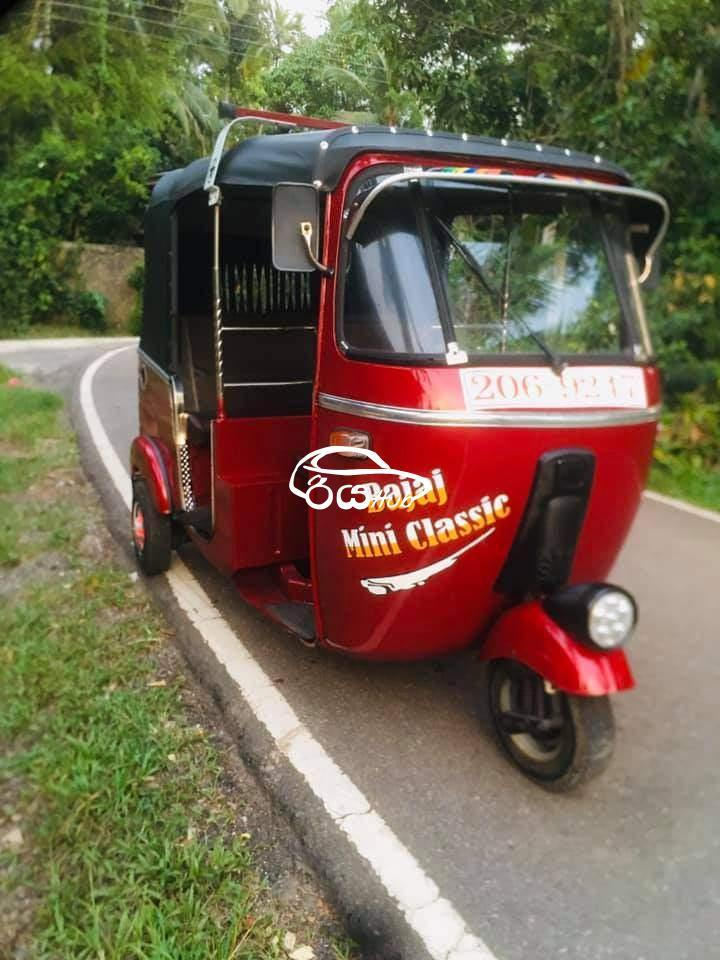threewheel: (125, 122, 664, 795)
